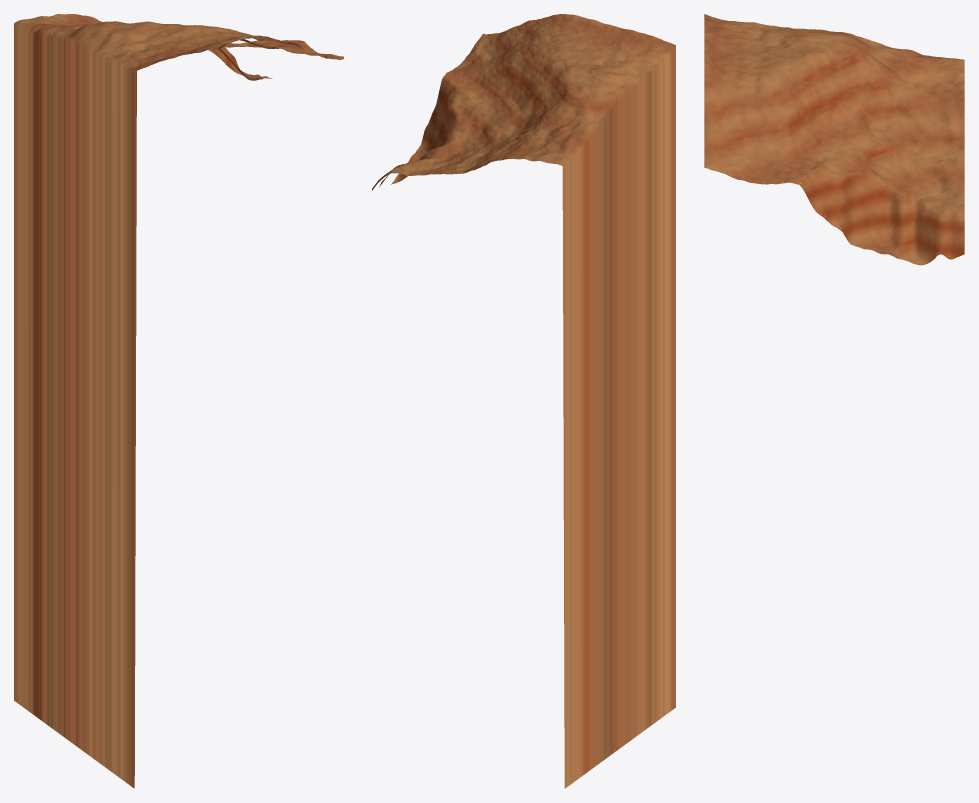
The model's file is terrain-026.glb.
3 renders of one model, left to right at view 1: azimuth 30°, elevation 25°; view 2: azimuth 150°, elevation 25°; view 3: azimuth 270°, elevation 25°, orthographic. The views are drawn at different scales.
Parts seen in each view (by area): view 1: terrain-026; view 2: terrain-026; view 3: terrain-026.
Part boxes in pixels (box(x1,y1,x2,y2)): terrain-026: box(14, 14, 343, 788); terrain-026: box(372, 14, 675, 788); terrain-026: box(704, 14, 964, 265).
Bounding box in the file's own units: 384 × 1273 × 384.
